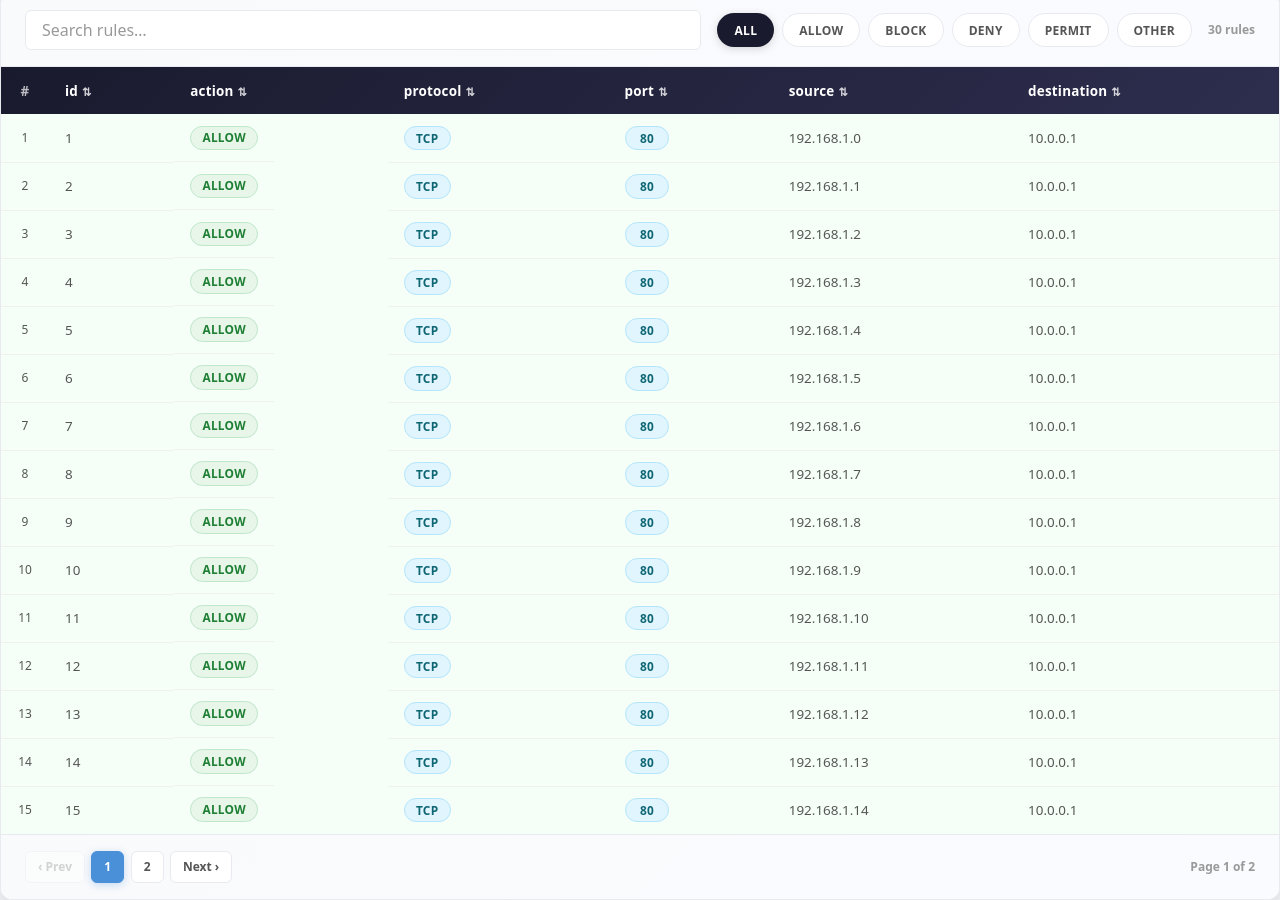
RulesTable Component › Pagination › resets to page 1 when search is updated
(page scrolled)
# Go to page 2
Click the button "2" at (147, 867), box [131,851,164,883]
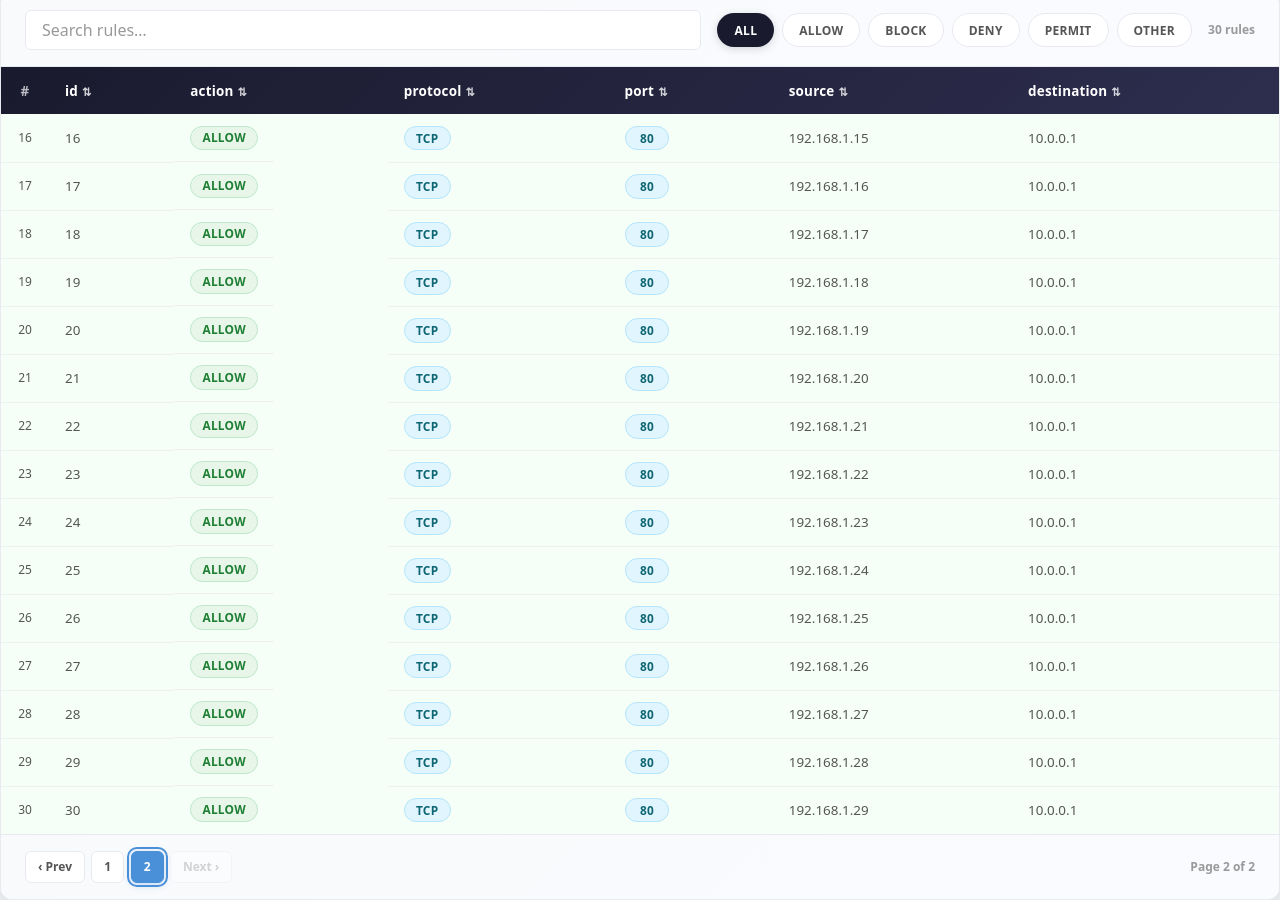
# Update search - should reset to page 1
Type "192.168.1" into the field with placeholder "Search rules…" at (363, 30), box [25,10,702,50]
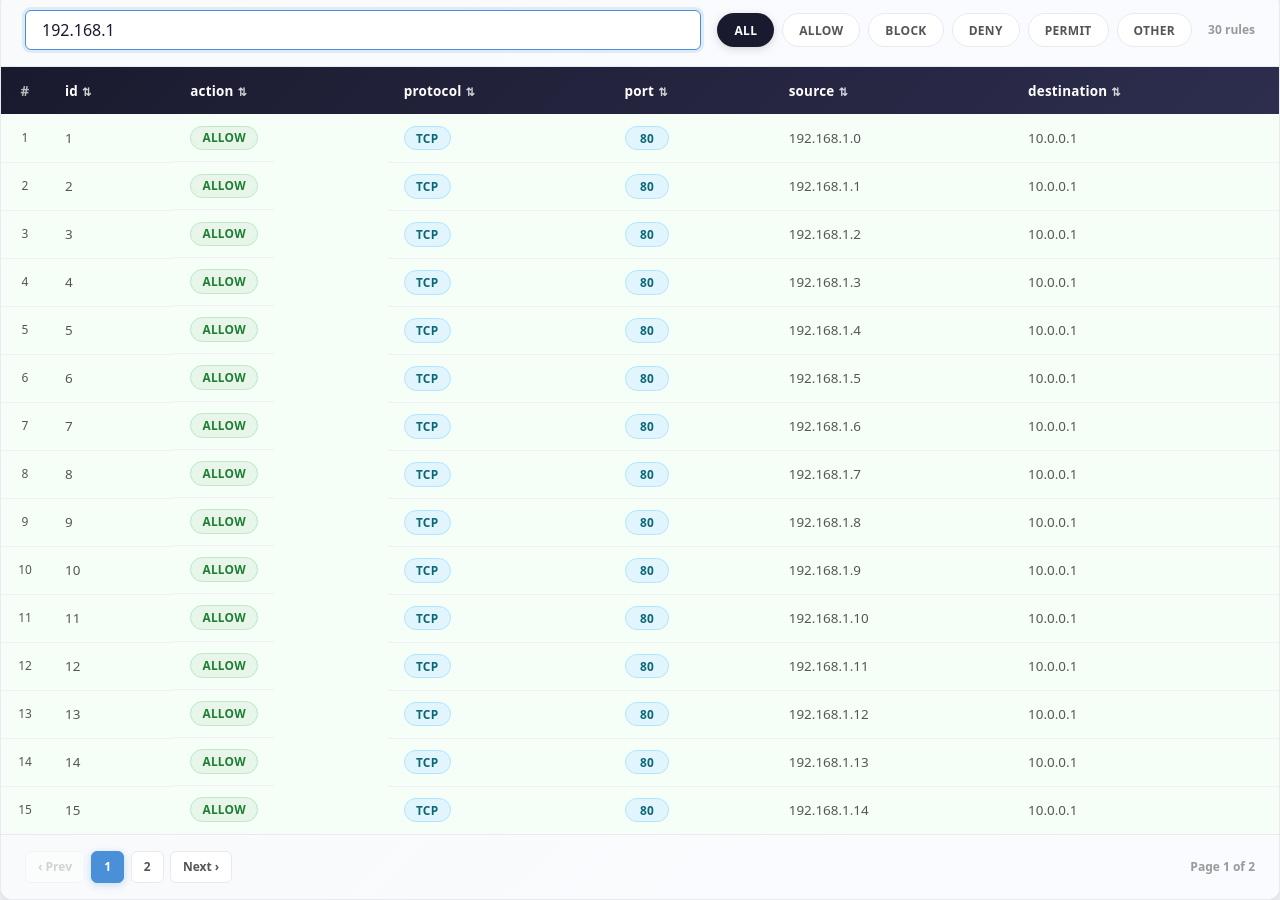
Now the text "Page 1 of 2" is shown, box [1190,858,1255,876]
